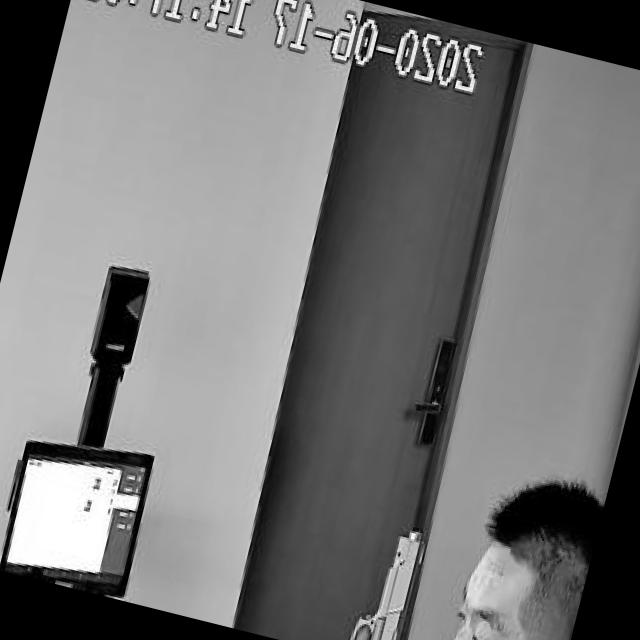Guns: (289, 489, 448, 640)
